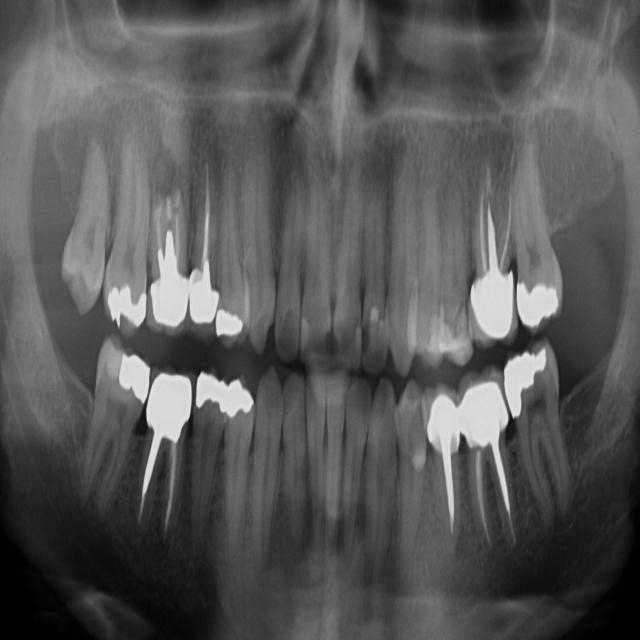dentin-curugu: (279, 303, 300, 354), (358, 319, 373, 354)
dolgu: (89, 273, 154, 335), (489, 348, 554, 403), (103, 346, 154, 413), (509, 272, 565, 330), (203, 299, 252, 346)
kanal-tedavisi: (466, 438, 525, 556), (142, 422, 184, 541), (185, 173, 228, 287), (474, 169, 518, 280), (426, 442, 473, 544), (146, 193, 195, 283)
kaplama: (469, 257, 519, 344), (190, 369, 258, 426), (416, 382, 465, 460), (143, 369, 197, 438), (463, 376, 512, 446), (147, 268, 190, 334), (186, 262, 222, 332)
